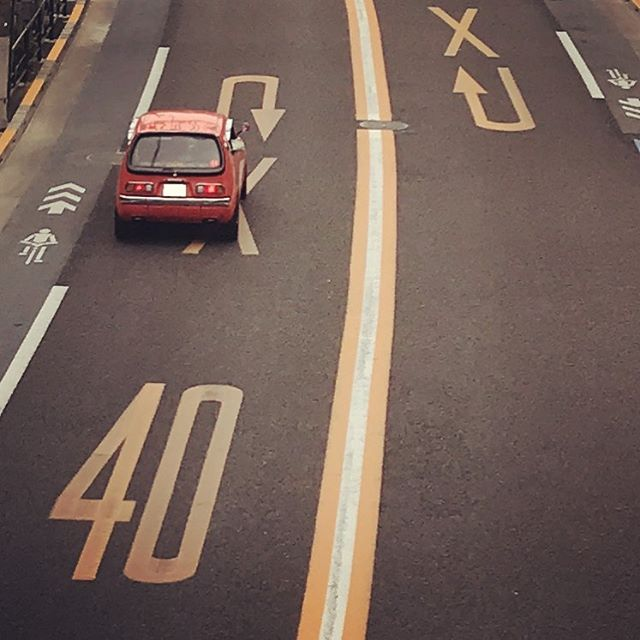car: (102, 102, 250, 253)
street: (14, 1, 640, 638)
